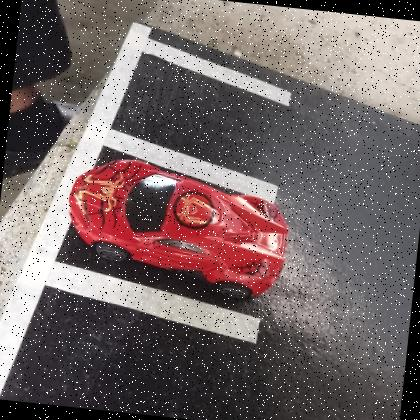Car: (67, 155, 289, 303)
